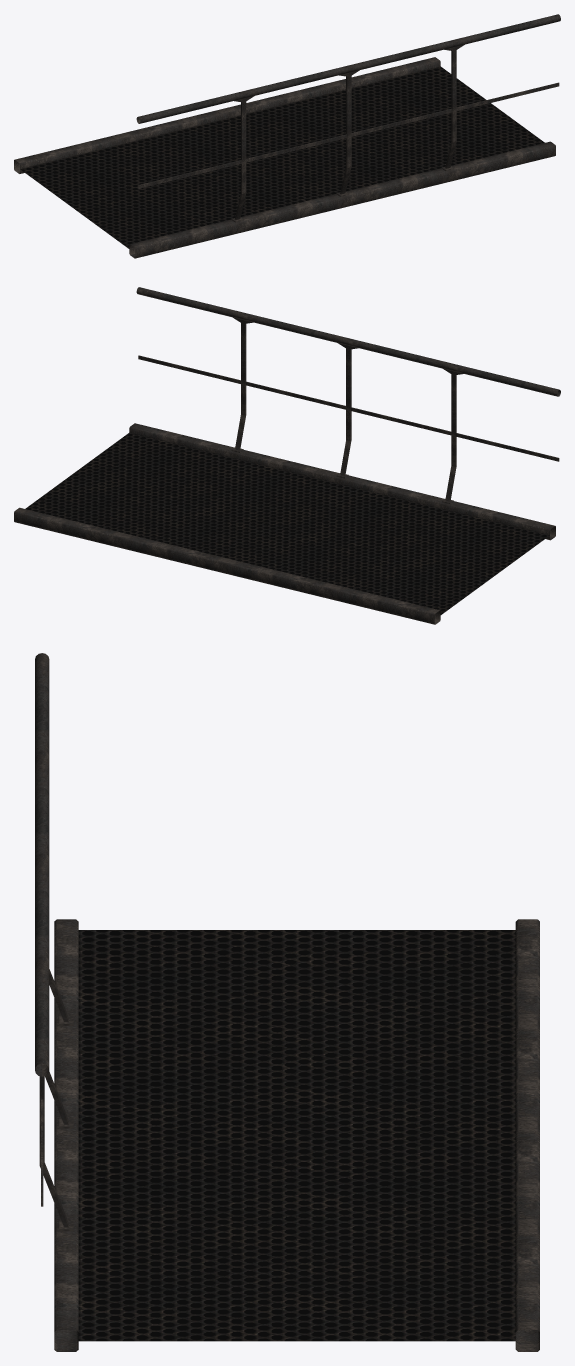
The model's file is catwalk_1.obj.
The picture shows the model from 3 angles, top to bottom: view 1: azimuth 30°, elevation 25°; view 2: azimuth 150°, elevation 25°; view 3: azimuth 270°, elevation 25°; orthographic projection. The views are drawn at different scales.
Parts seen in each view (by area): view 1: catwalk_1, handrail_4; view 2: catwalk_1, handrail_4; view 3: catwalk_1, handrail_4.
Part boxes in pixels (left/top/right/bottom): catwalk_1: left=14, top=57, right=555, bottom=258; handrail_4: left=136, top=14, right=560, bottom=222; catwalk_1: left=14, top=423, right=555, bottom=624; handrail_4: left=136, top=287, right=560, bottom=504; catwalk_1: left=54, top=919, right=539, bottom=1351; handrail_4: left=35, top=653, right=73, bottom=1231.
Size of the model in its own units: 4 by 1.31 by 2.08.
